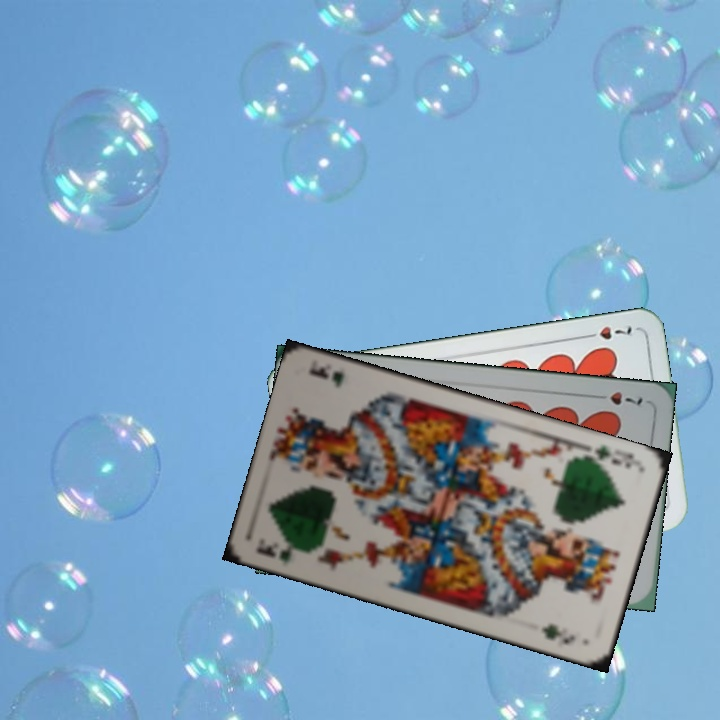GK: (580, 440, 642, 471), (252, 541, 292, 568)
H7: (589, 387, 645, 410), (579, 322, 635, 342)
